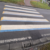zebra: (1, 5, 50, 31)
